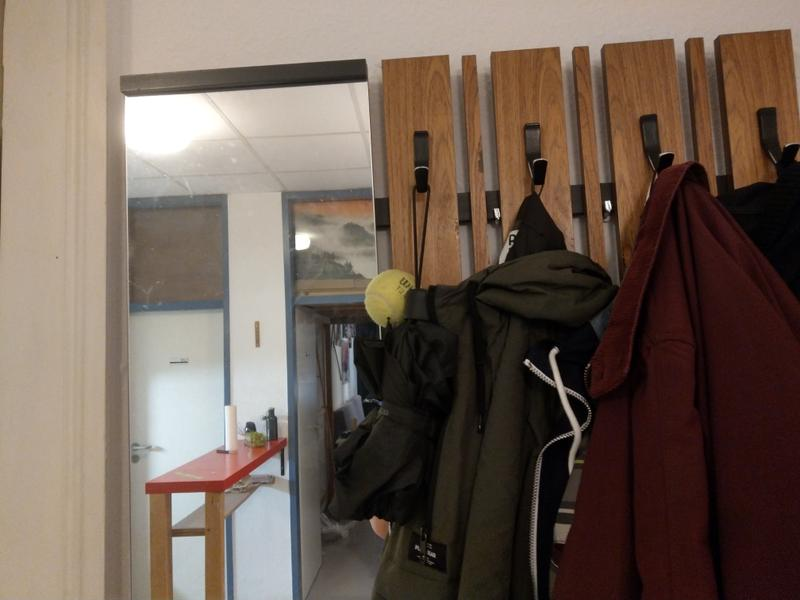Tennisball: (363, 268, 415, 329)
